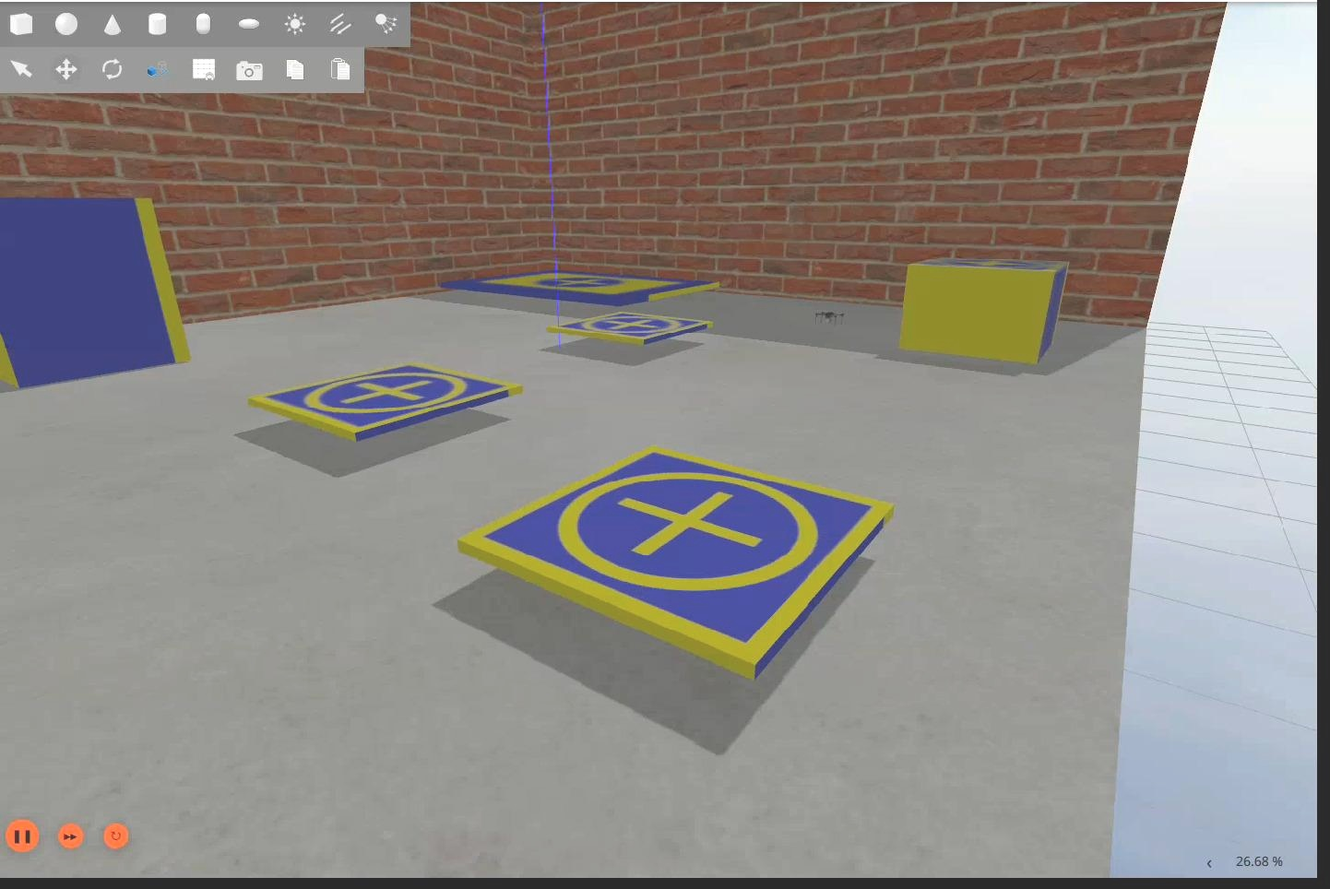large_base: (438, 266, 728, 312)
small_base: (458, 446, 906, 682), (247, 360, 528, 444), (548, 308, 713, 349), (907, 253, 1074, 280)
